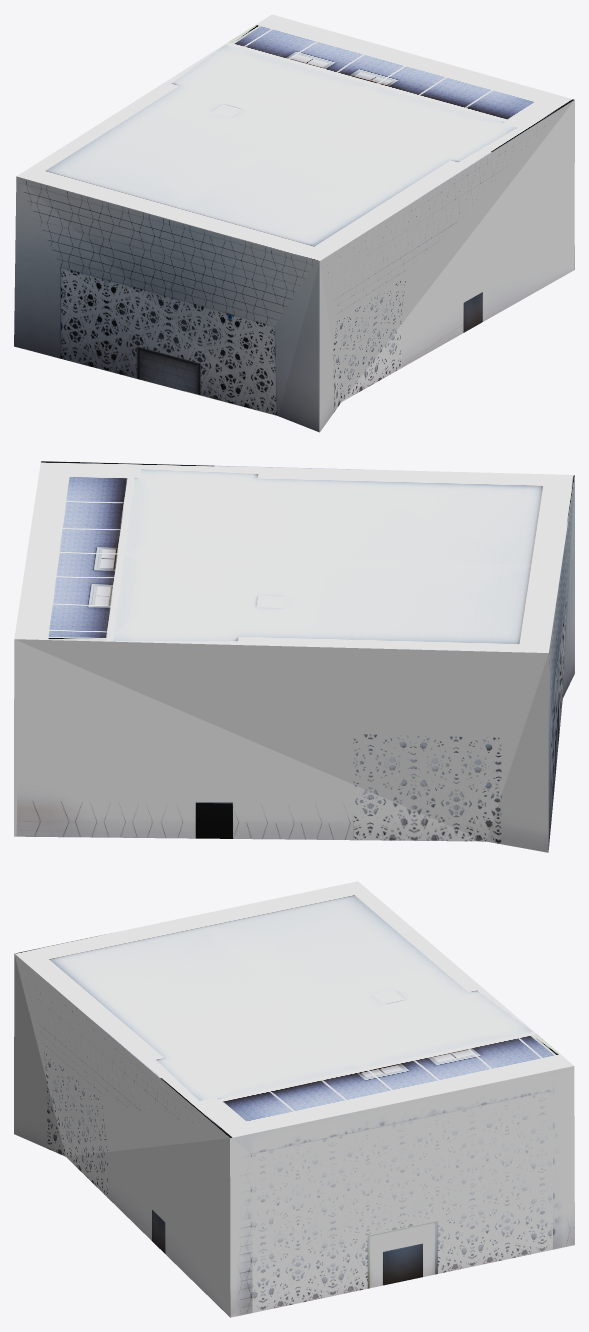
File: kafdmasjid-new.glb
3 renders of one model, top to bottom at view 1: azimuth 30°, elevation 25°; view 2: azimuth 150°, elevation 25°; view 3: azimuth 270°, elevation 25°, orthographic. The views are drawn at different scales.
Visible parts, largest first — view 1: Mosque.001; view 2: Mosque.001; view 3: Mosque.001.
Part boxes in pixels (x1,y1,x2,y2): Mosque.001: [14, 14, 574, 432]; Mosque.001: [14, 461, 574, 852]; Mosque.001: [14, 881, 574, 1317].
Size of the model in its own units: 39.77 by 13.03 by 36.68.
1 material, 1 textured.
